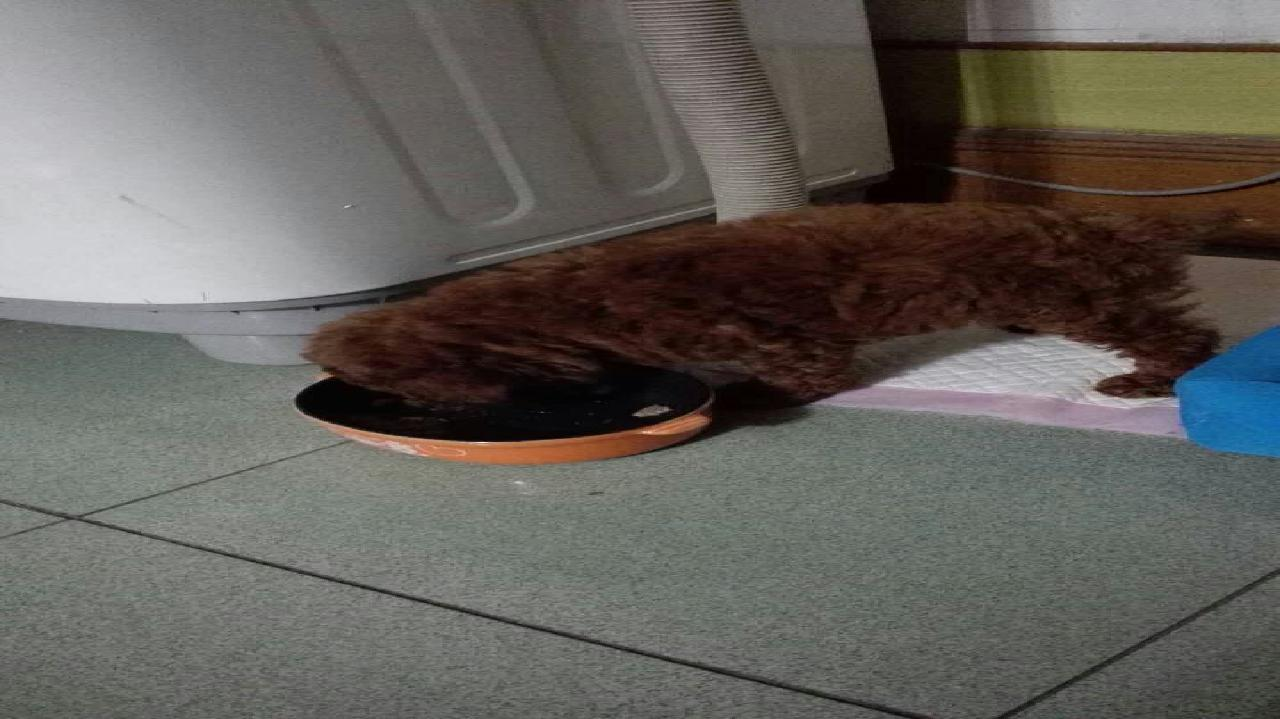zhuangzhuang: (288, 198, 1199, 462)
